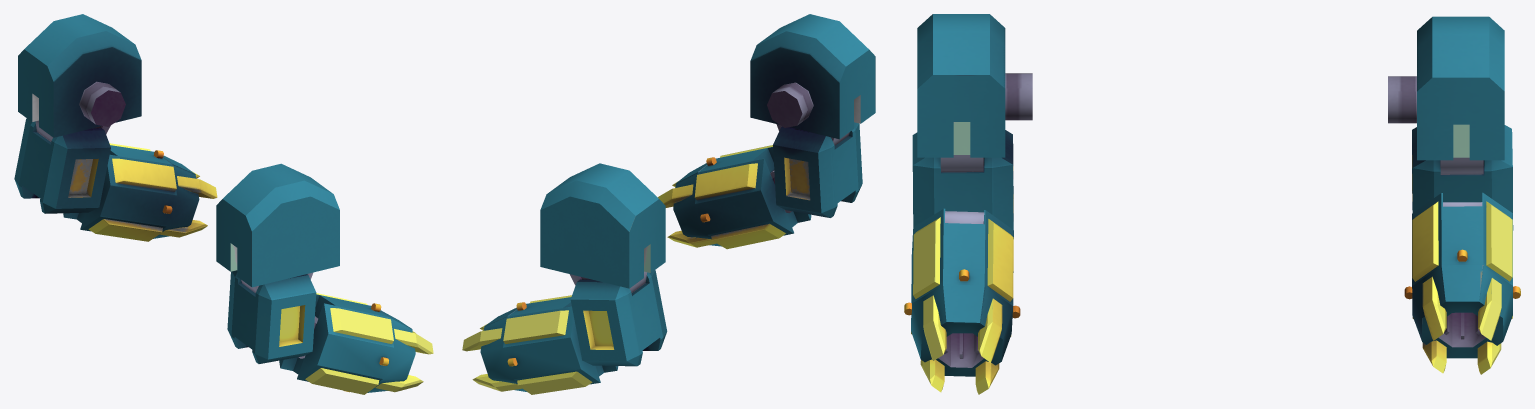
File: Player_Idle15.obj
The picture shows the model from 3 angles, left to right: view 1: azimuth 30°, elevation 25°; view 2: azimuth 150°, elevation 25°; view 3: azimuth 270°, elevation 25°; orthographic projection. The views are drawn at different scales.
Visible parts, largest first — view 1: Object005, Object003, Object001, Object007, Object006, Object002; view 2: Object003, Object005, Object001, Object007, Object006, Object002; view 3: Object001, Object007, Object005, Object003, Object002, Object006.
Boxes of the visible parts, x1=… form: Object005: x1=18, y1=14, x2=141, y2=137; Object003: x1=216, y1=163, x2=339, y2=287; Object001: x1=279, y1=293, x2=433, y2=394; Object007: x1=63, y1=143, x2=217, y2=241; Object006: x1=14, y1=118, x2=110, y2=213; Object002: x1=227, y1=270, x2=316, y2=363; Object003: x1=750, y1=14, x2=875, y2=139; Object005: x1=540, y1=163, x2=665, y2=288; Object001: x1=658, y1=145, x2=811, y2=249; Object007: x1=462, y1=295, x2=618, y2=394; Object006: x1=569, y1=270, x2=667, y2=366; Object002: x1=773, y1=122, x2=862, y2=217; Object001: x1=904, y1=208, x2=1020, y2=394; Object007: x1=1404, y1=192, x2=1520, y2=374; Object005: x1=1388, y1=16, x2=1504, y2=160; Object003: x1=917, y1=14, x2=1032, y2=157; Object002: x1=912, y1=130, x2=1013, y2=229; Object006: x1=1412, y1=125, x2=1513, y2=230.
Bounding box in the file's own units: 36.84 × 44.04 × 83.7.
1 material, 1 textured.
